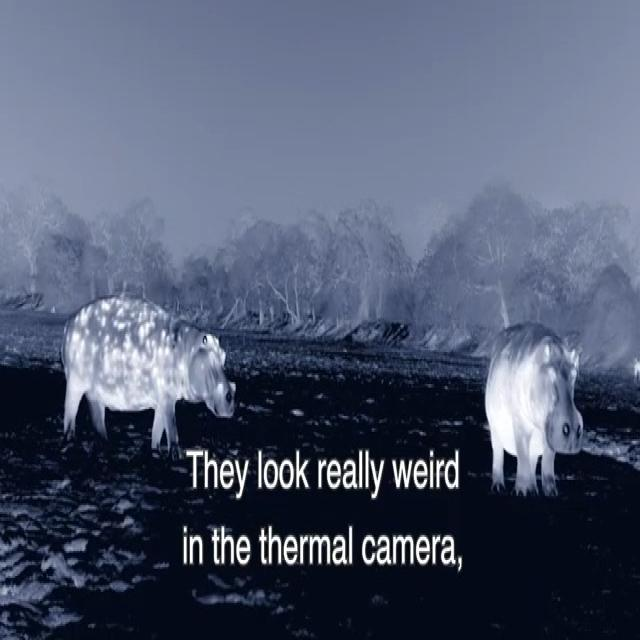animal: (44, 278, 244, 489), (465, 301, 600, 512)
